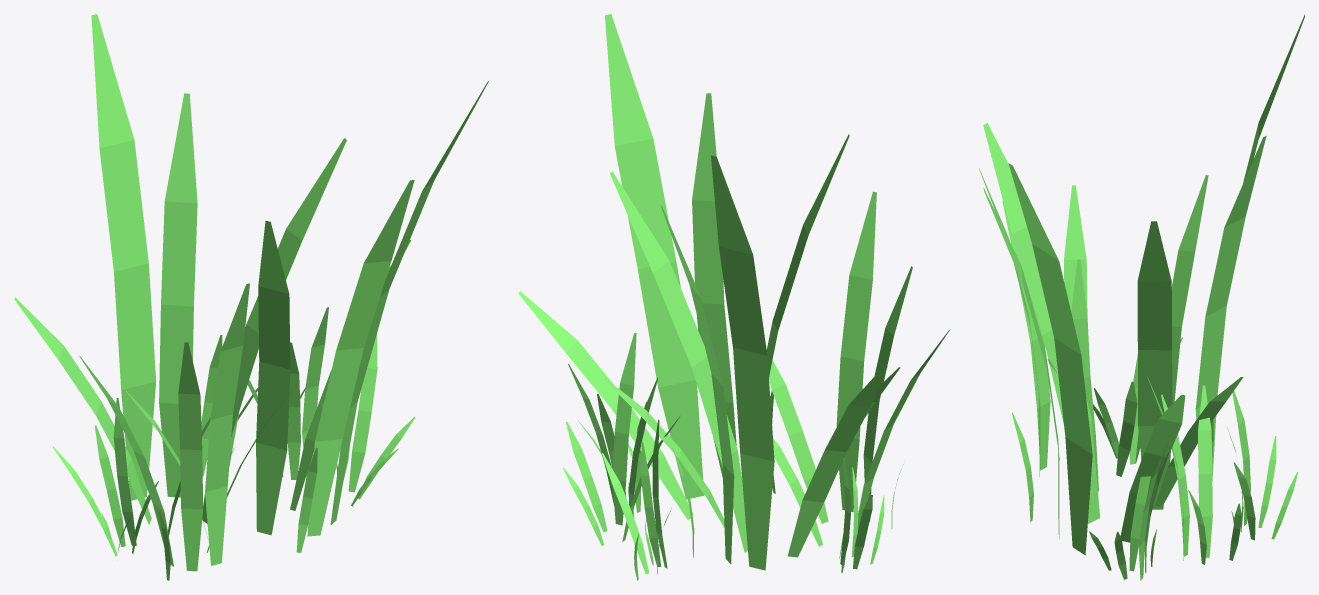
Rendered from Grass.fbx.
3 views of the same model, side by side, from view 1: azimuth 30°, elevation 25°; view 2: azimuth 150°, elevation 25°; view 3: azimuth 270°, elevation 25° (orthographic). The views are drawn at different scales.
Parts seen in each view (by area): view 1: Grass.006; view 2: Grass.006; view 3: Grass.006.
Boxes of the visible parts, <box> form: Grass.006: <box>14,14,488,580</box>; Grass.006: <box>518,14,950,580</box>; Grass.006: <box>979,14,1304,580</box>.
Size of the model in its own units: 109 by 125 by 77.47.
Materials: 1 (1 with a texture image).
